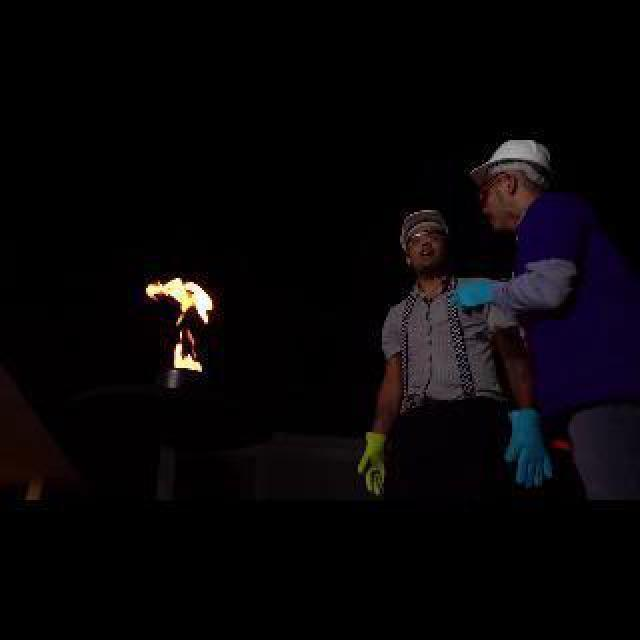Fire: (150, 274, 238, 368)
